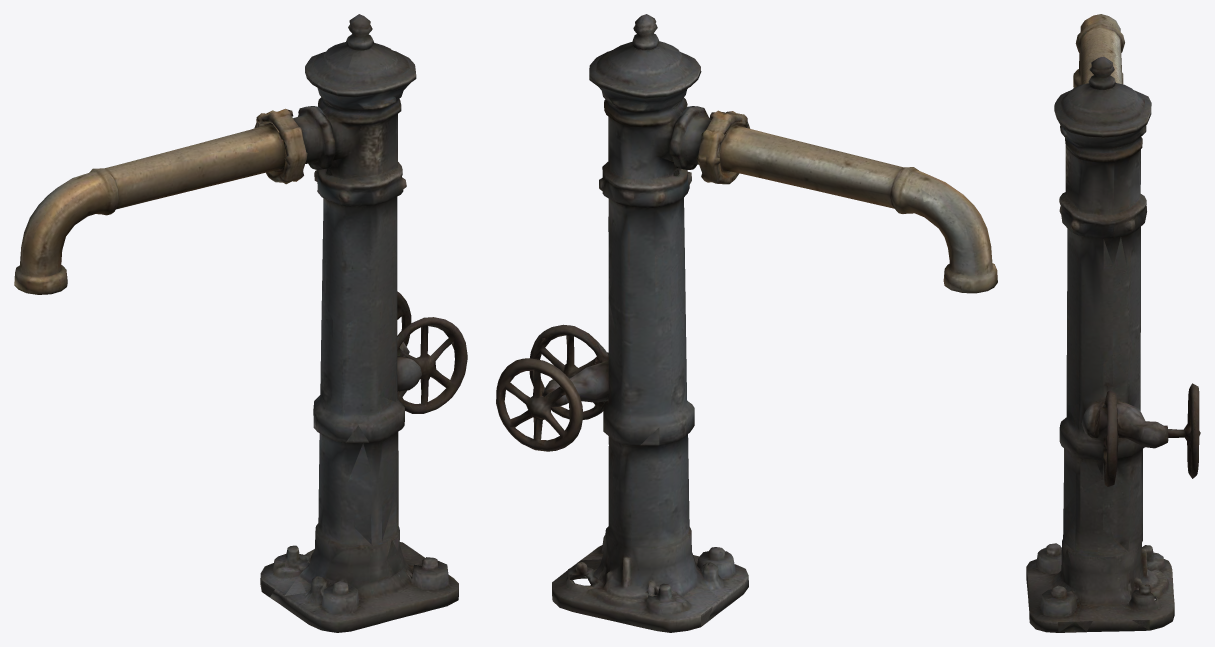
3 views of the same model, side by side, from view 1: azimuth 30°, elevation 25°; view 2: azimuth 150°, elevation 25°; view 3: azimuth 270°, elevation 25° (orthographic). The views are drawn at different scales.
Visible parts, largest first — view 1: Mindflower_V15_water_crane_baked; view 2: Mindflower_V15_water_crane_baked; view 3: Mindflower_V15_water_crane_baked.
Part boxes in pixels (left/top/right/bottom): Mindflower_V15_water_crane_baked: left=14, top=14, right=467, bottom=632; Mindflower_V15_water_crane_baked: left=496, top=14, right=997, bottom=632; Mindflower_V15_water_crane_baked: left=1026, top=14, right=1200, bottom=632.
Bounding box in the file's own units: 0.8022 × 0.9692 × 0.2819.
Materials: 1 (1 with a texture image).
